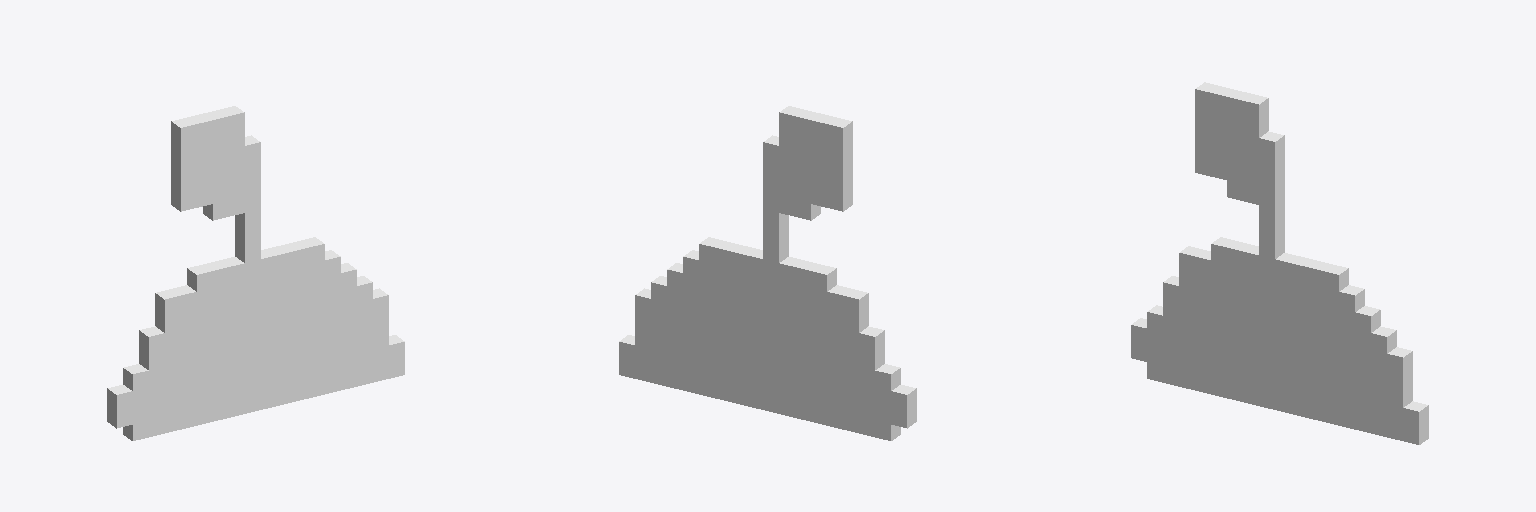
The model's file is slimeking-toss-7.obj.
The picture shows the model from 3 angles: view 1: azimuth 30°, elevation 25°; view 2: azimuth 150°, elevation 25°; view 3: azimuth 330°, elevation 25°; orthographic projection.
Visible parts, largest first — view 1: object 1; view 2: object 1; view 3: object 1.
Boxes of the visible parts, box(x1,y1,x2,y2) form: object 1: box(107, 106, 404, 440); object 1: box(619, 106, 916, 440); object 1: box(1131, 82, 1428, 444).
Size of the model in its own units: 1.8 by 1.8 by 0.1.